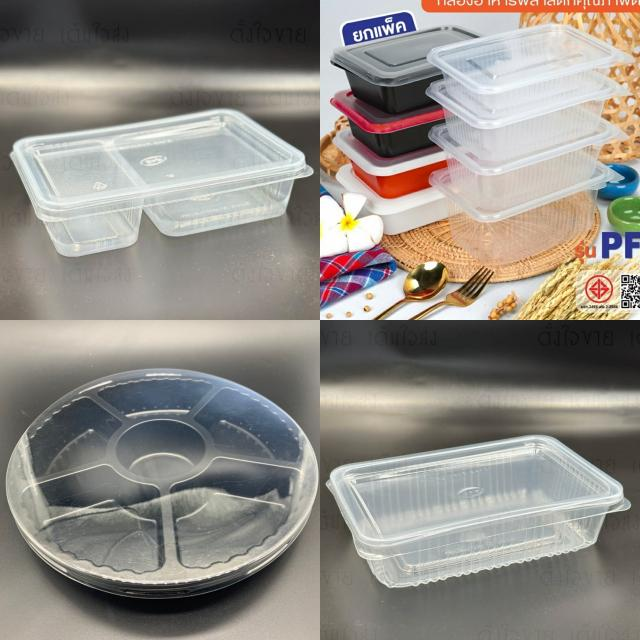Single-Use-Plastic: (6, 369, 318, 598), (326, 435, 630, 588), (11, 109, 312, 256), (428, 24, 632, 118), (430, 164, 616, 266), (429, 119, 625, 211), (426, 78, 629, 162), (330, 26, 478, 113), (334, 129, 446, 199), (330, 90, 444, 157)
